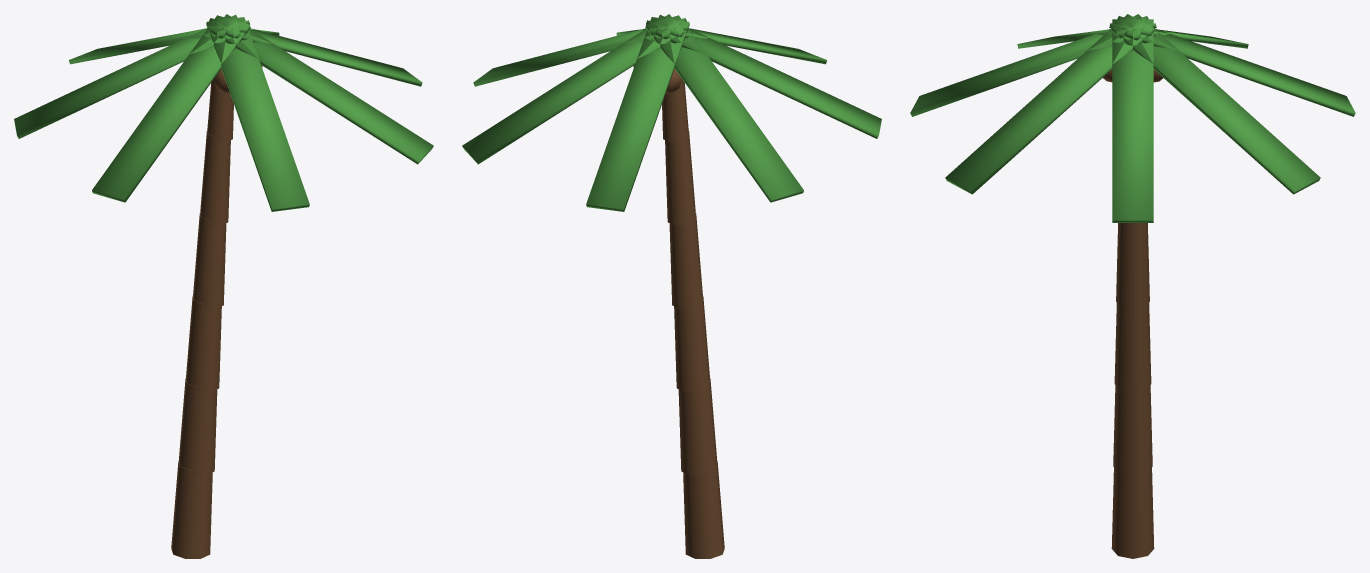
The model's file is tree_palm.glb.
3 views of the same model, side by side, from view 1: azimuth 30°, elevation 25°; view 2: azimuth 150°, elevation 25°; view 3: azimuth 270°, elevation 25° (orthographic). The views are drawn at different scales.
Parts seen in each view (by area): view 1: tree_palm_mesh; view 2: tree_palm_mesh; view 3: tree_palm_mesh.
Boxes of the visible parts, bbox=[...] form: tree_palm_mesh: bbox=[14, 14, 433, 558]; tree_palm_mesh: bbox=[462, 14, 881, 558]; tree_palm_mesh: bbox=[910, 14, 1355, 558].
Size of the model in its own units: 3.69 by 5.11 by 3.78.
